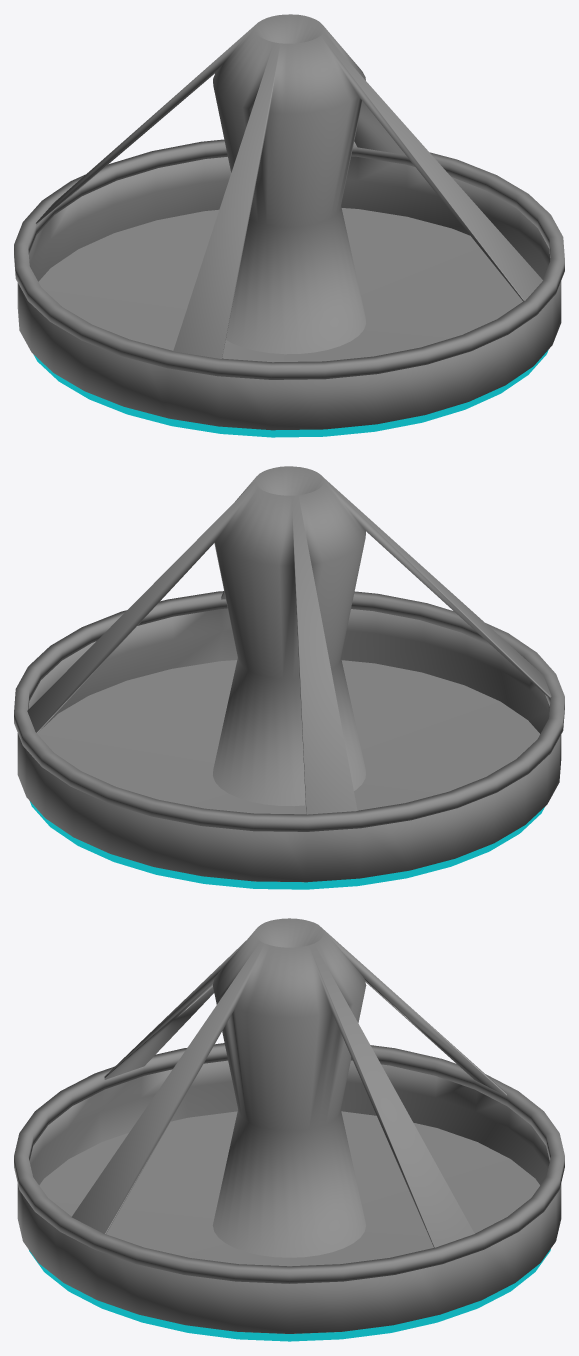
The model's file is Fountain.fbx.
3 views of the same model, one above another, from view 1: azimuth 30°, elevation 25°; view 2: azimuth 150°, elevation 25°; view 3: azimuth 270°, elevation 25° (orthographic).
Visible parts, largest first — view 1: Cylinder; view 2: Cylinder; view 3: Cylinder.
Boxes of the visible parts, bbox=[...] form: Cylinder: bbox=[14, 14, 564, 437]; Cylinder: bbox=[14, 466, 564, 889]; Cylinder: bbox=[14, 918, 564, 1341].
Size of the model in its own units: 719 by 431 by 718.
